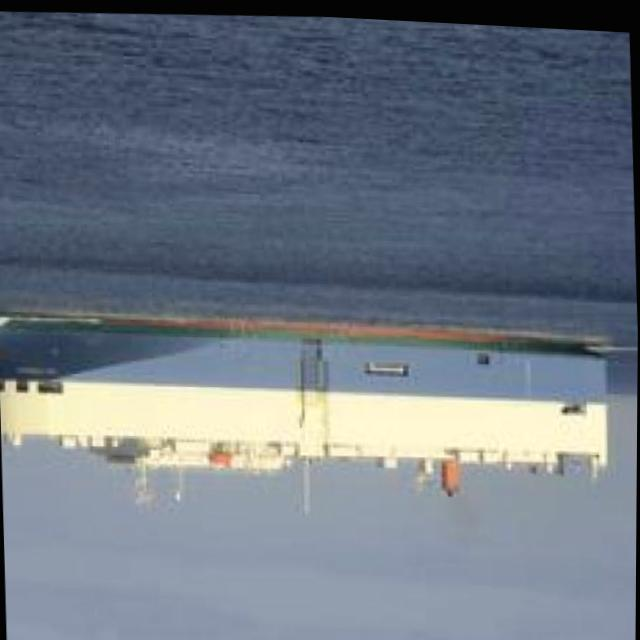ship2: (0, 313, 620, 512)
